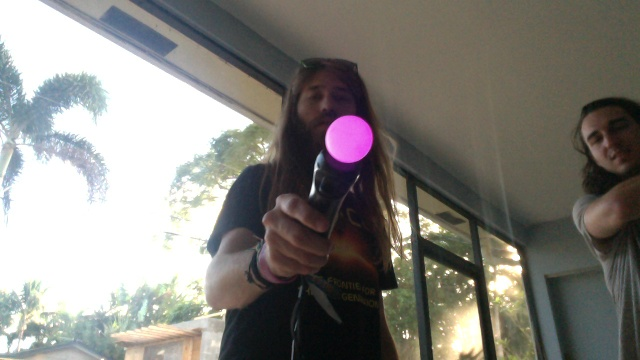wand: (325, 115, 375, 164)
